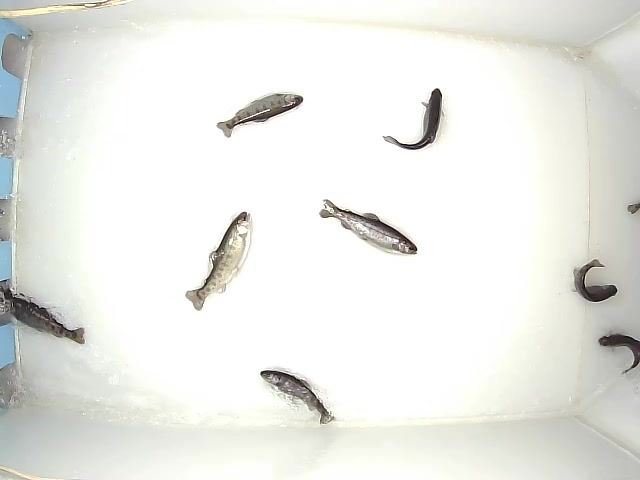fish: (185, 211, 253, 311), (319, 199, 418, 256), (260, 370, 336, 425), (1, 296, 85, 345), (216, 93, 303, 138), (382, 88, 445, 150), (573, 259, 618, 303), (598, 334, 640, 374)
